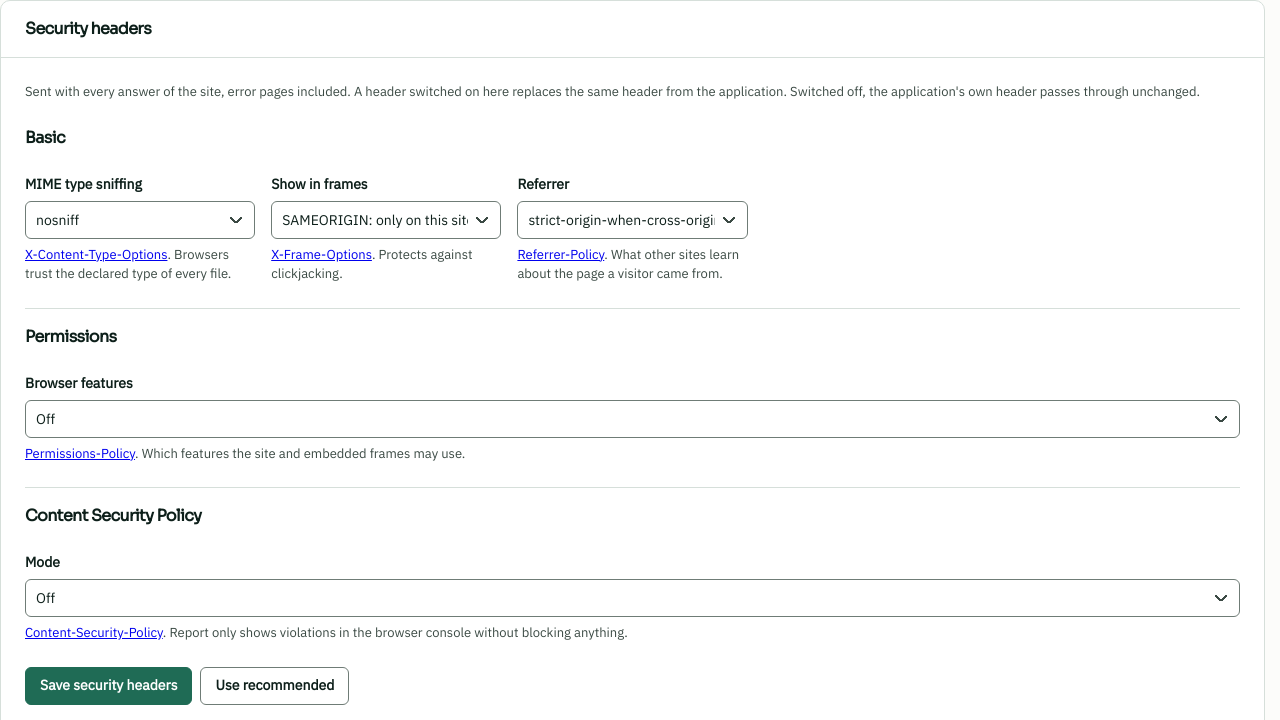
Scenario: SecurityHeadersCard › saves a report-only policy
Expected: the dropdown labelled "Show in frames" shows "SAMEORIGIN: only on this site", [271,200,501,238]
Step 1. Select "Report only (test first)" in the dropdown labelled "Mode" → x=632, y=598, box [25,579,1240,617]
(page scrolled)
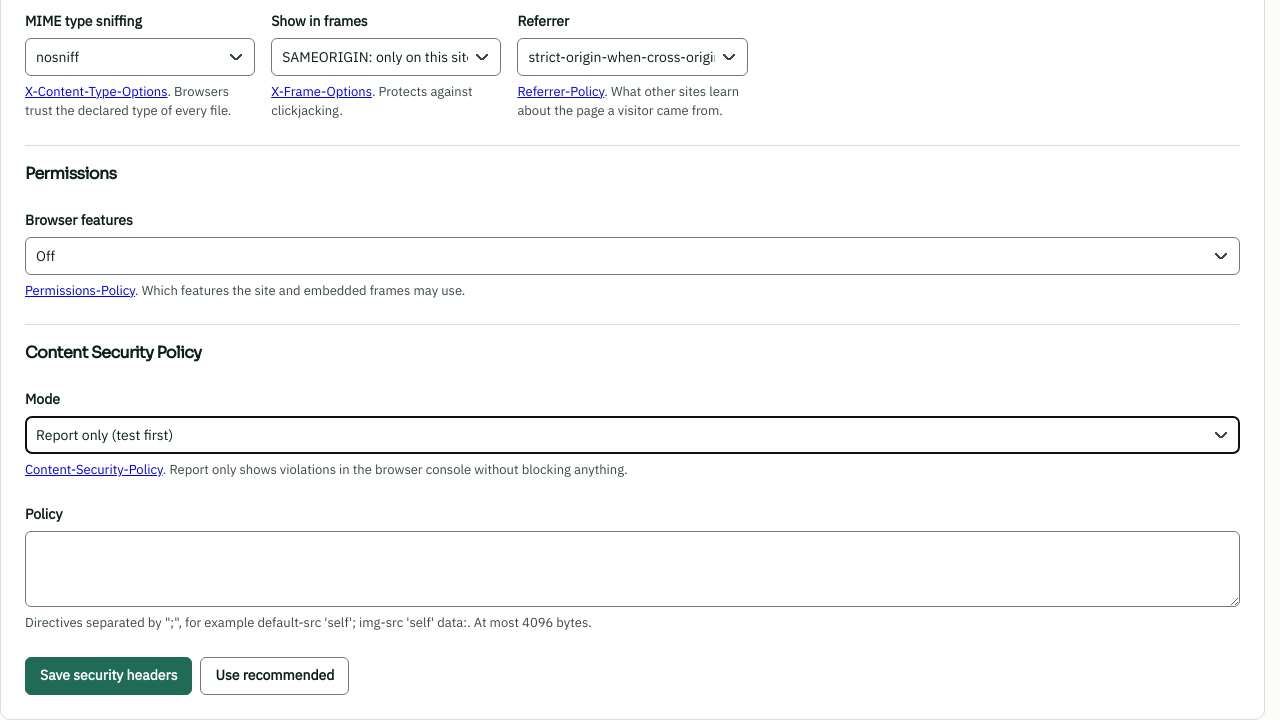
Step 2. Type "default-src 'self'" into the text box labelled "Policy" → x=632, y=569, box [25,530,1240,607]
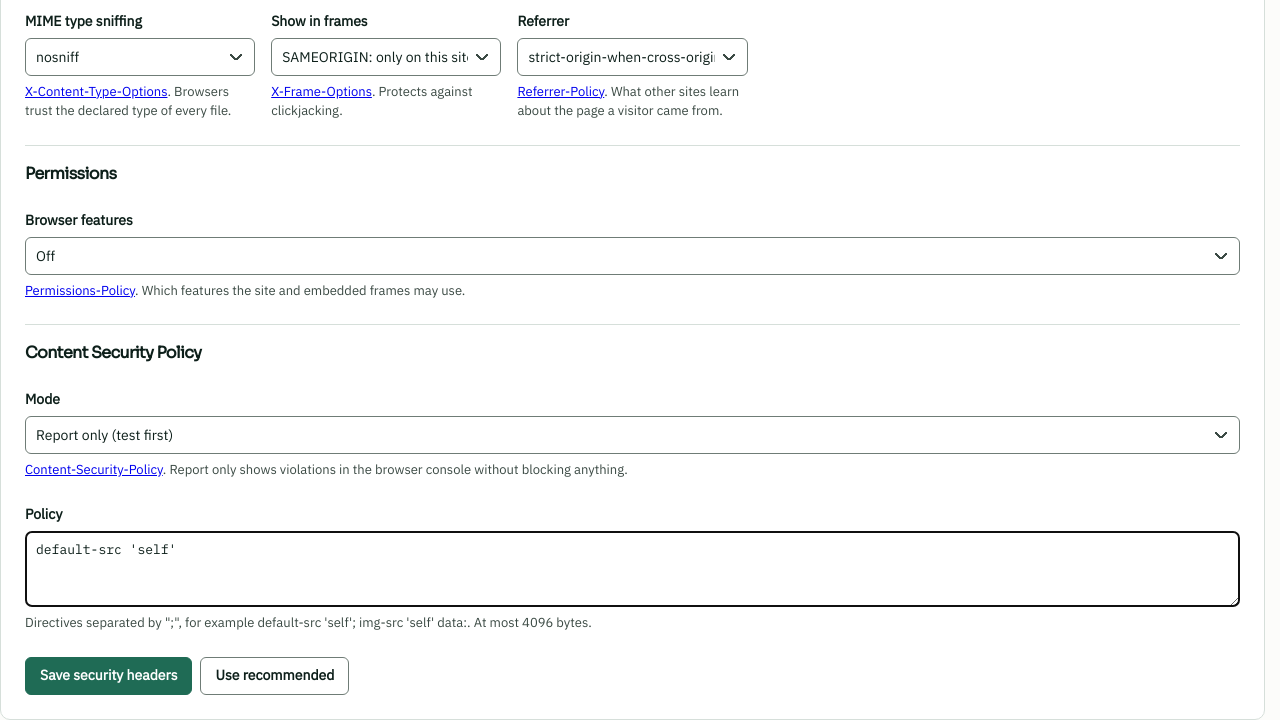
Step 3. Click the button "Save security headers" → x=109, y=676, box [25,656,192,694]
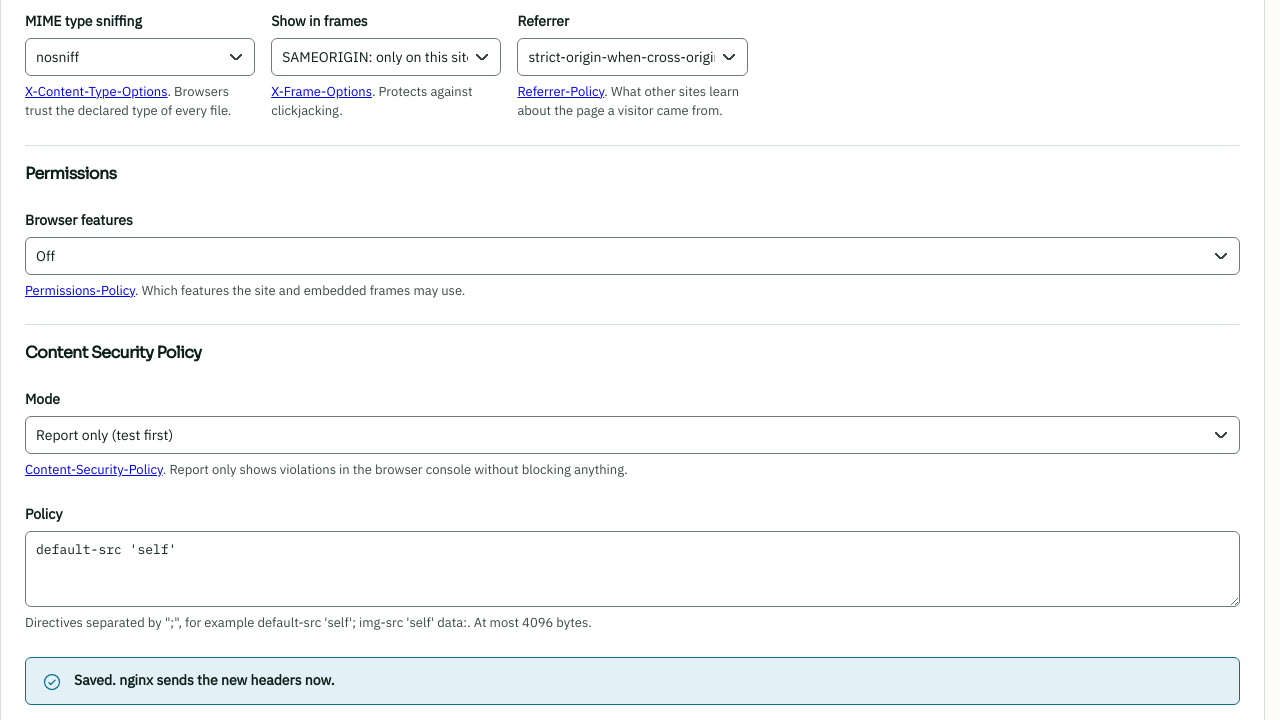
Result: the message shows "Saved." at [74,670,335,688]
